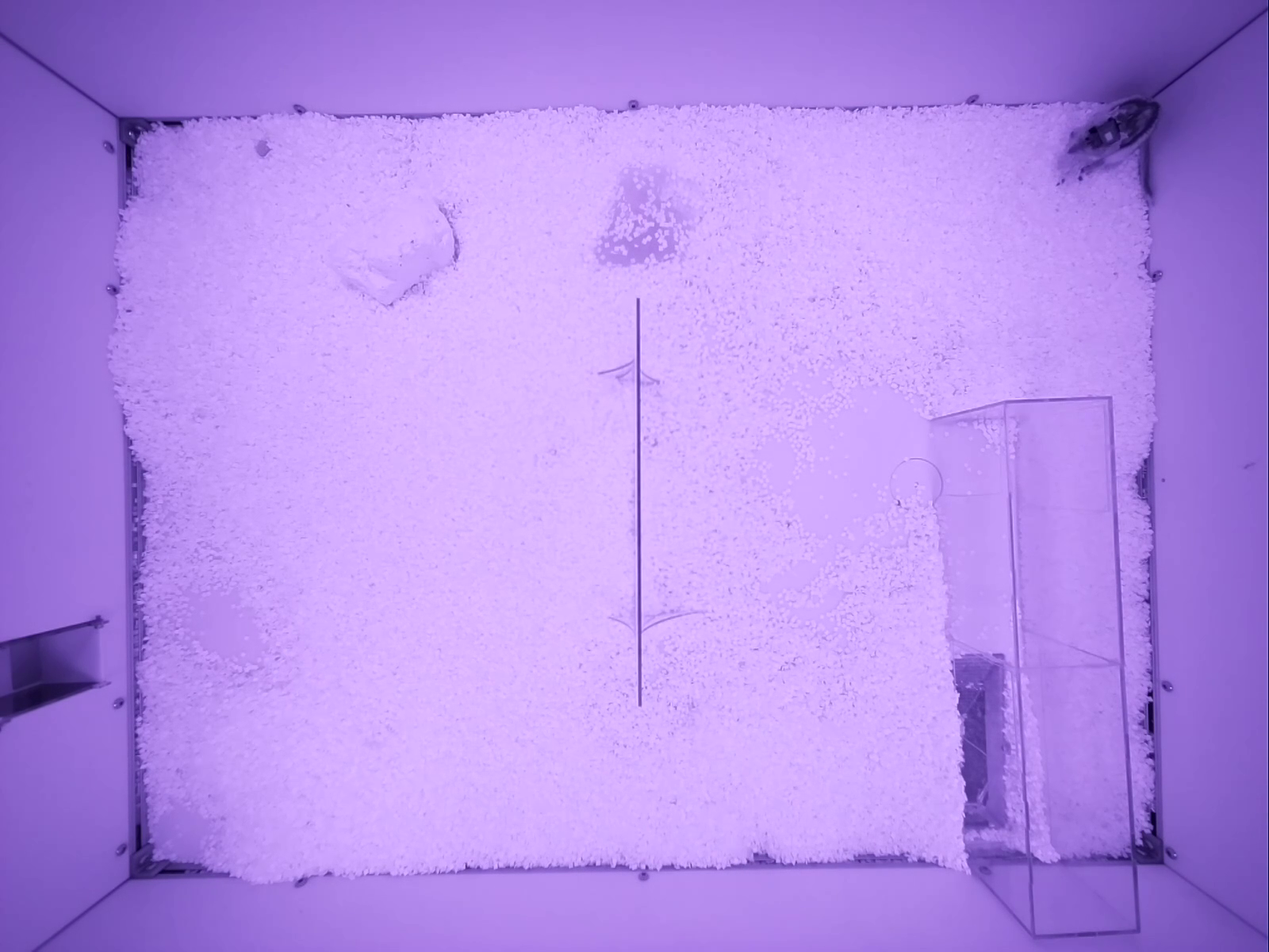adult_back: (1056, 96, 1160, 183)
